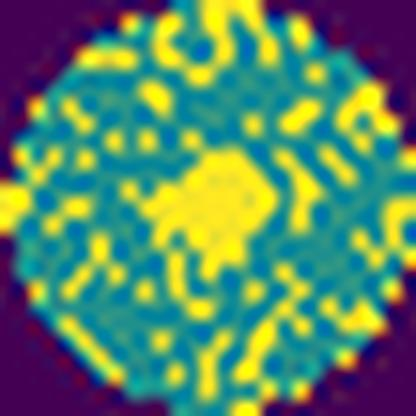Center: (124, 145, 280, 319)
